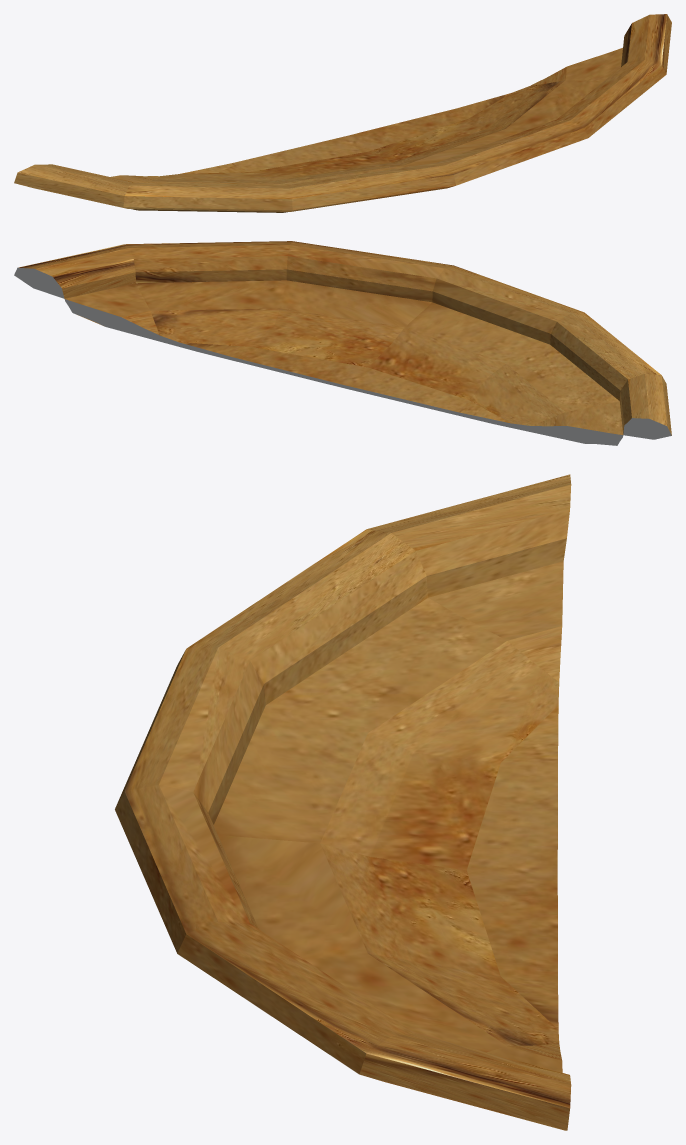
File: sugartri4.gltf
3 views of the same model, one above another, from view 1: azimuth 30°, elevation 25°; view 2: azimuth 150°, elevation 25°; view 3: azimuth 270°, elevation 25° (orthographic). The views are drawn at different scales.
Visible parts, largest first — view 1: 평면; view 2: 평면; view 3: 평면.
Boxes of the visible parts, left/top/right/bottom form: 평면: left=14, top=14, right=671, bottom=212; 평면: left=14, top=241, right=671, bottom=445; 평면: left=115, top=474, right=571, bottom=1130.
Bounding box in the file's own units: 1.44 × 0.0995 × 0.4335.
Materials: 1 (1 with a texture image).
